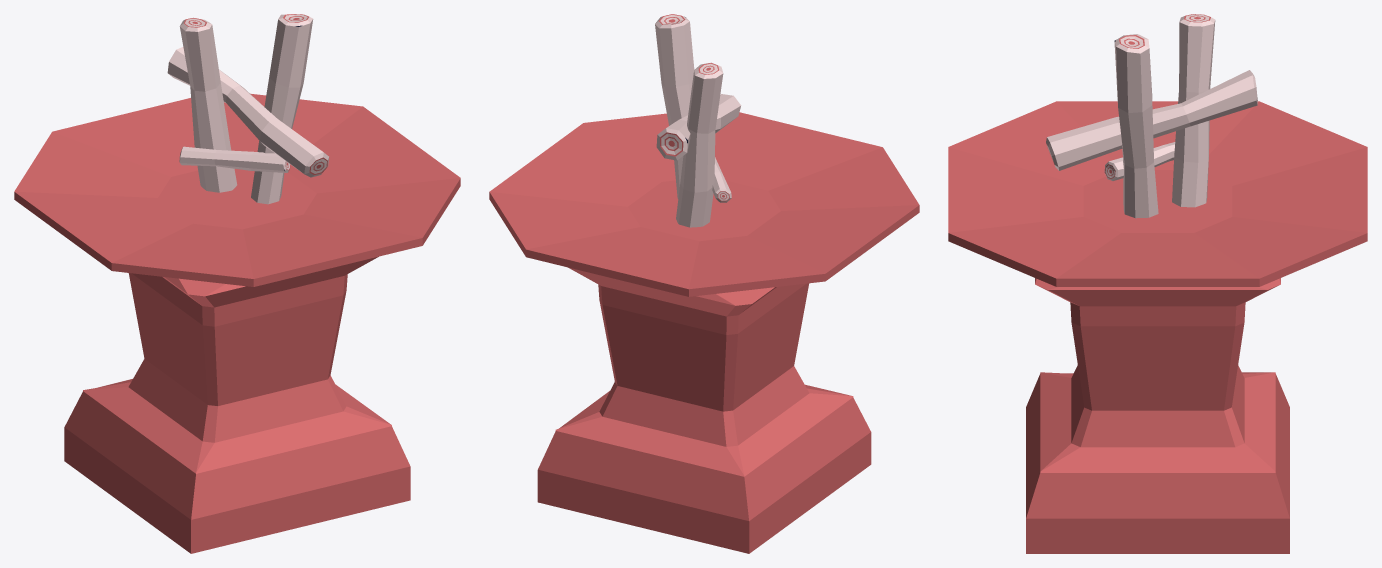
The model's file is c_torch_mech.glb.
3 renders of one model, left to right at view 1: azimuth 30°, elevation 25°; view 2: azimuth 150°, elevation 25°; view 3: azimuth 270°, elevation 25°, orthographic. The views are drawn at different scales.
Parts seen in each view (by area): view 1: C_TorchMech, C_TorchMechSticks; view 2: C_TorchMech, C_TorchMechSticks; view 3: C_TorchMech, C_TorchMechSticks.
Part boxes in pixels (x1,y1,x2,y2): C_TorchMech: (14,93,460,553); C_TorchMechSticks: (167,14,329,204); C_TorchMech: (489,112,919,553); C_TorchMechSticks: (655,14,741,227); C_TorchMech: (948,101,1367,553); C_TorchMechSticks: (1046,14,1257,218).
Size of the model in its own units: 0.8769 by 1.11 by 0.8769.
Materials: 1 (1 with a texture image).
